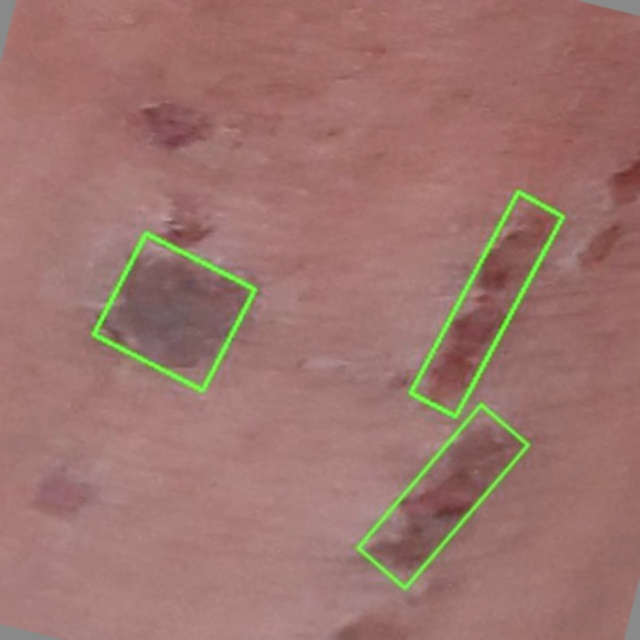Contact Dermatitis: (409, 192, 562, 417), (357, 405, 527, 588), (92, 233, 254, 391)
